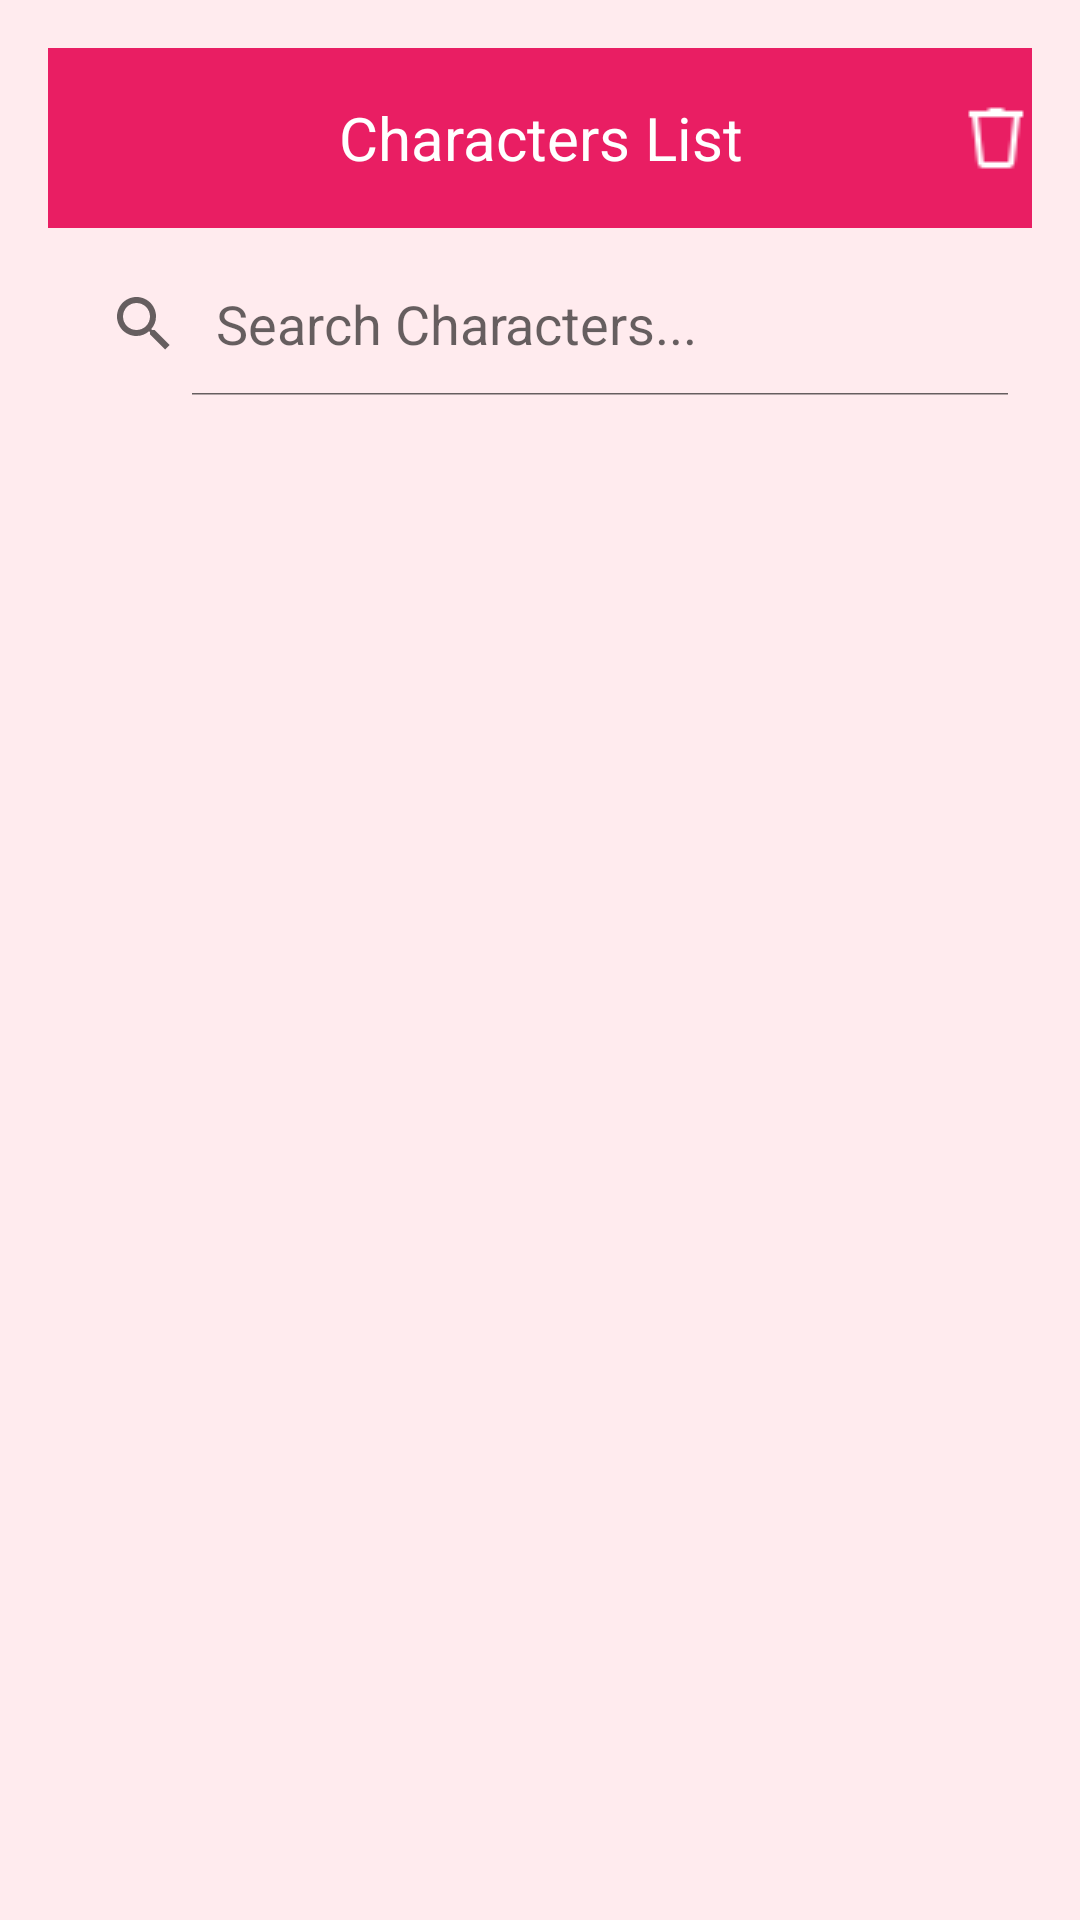

Named icons in this screenshot (1080w x 1920h) and their centers, point (x, y):
Trash icon: point (996, 138)
